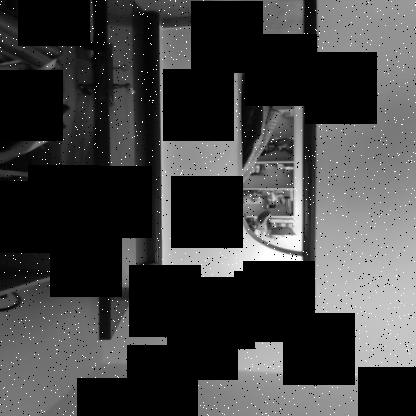Porte: (94, 0, 317, 340)
